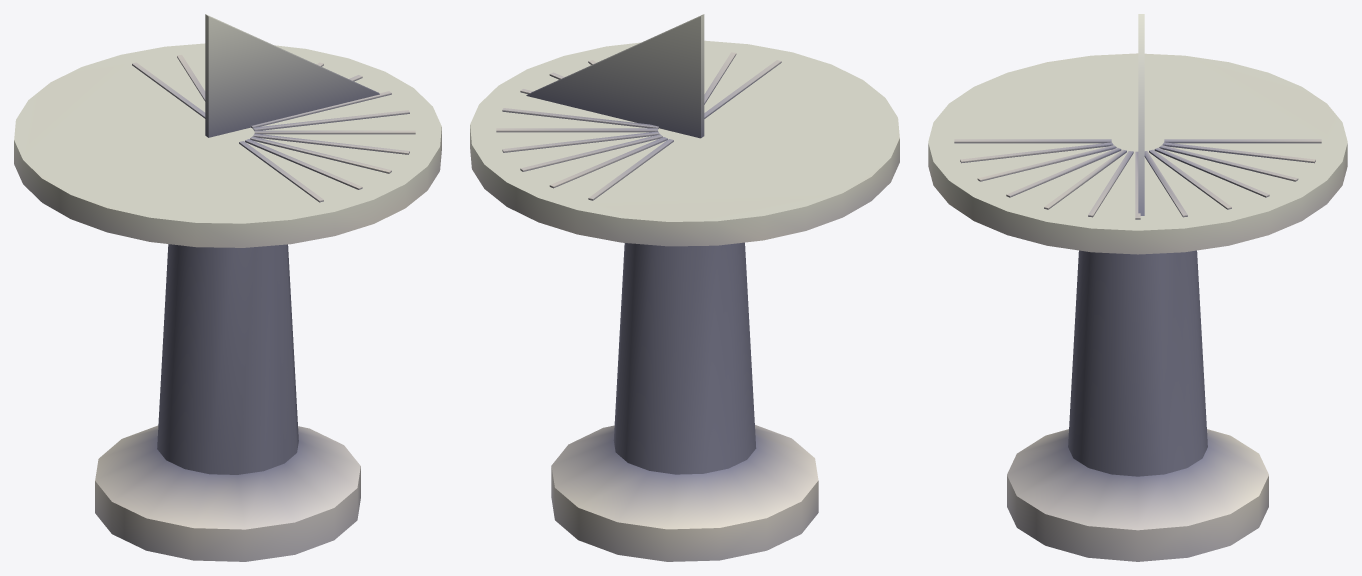
Rendered from moondial.glb.
The picture shows the model from 3 angles, left to right: view 1: azimuth 30°, elevation 25°; view 2: azimuth 150°, elevation 25°; view 3: azimuth 270°, elevation 25°; orthographic projection. The views are drawn at different scales.
Visible parts, largest first — view 1: body; view 2: body; view 3: body.
Boxes of the visible parts, bbox=[...] form: body: bbox=[14, 14, 441, 561]; body: bbox=[470, 14, 899, 561]; body: bbox=[928, 14, 1347, 561].
Size of the model in its own units: 0.96 by 1.22 by 0.96.
